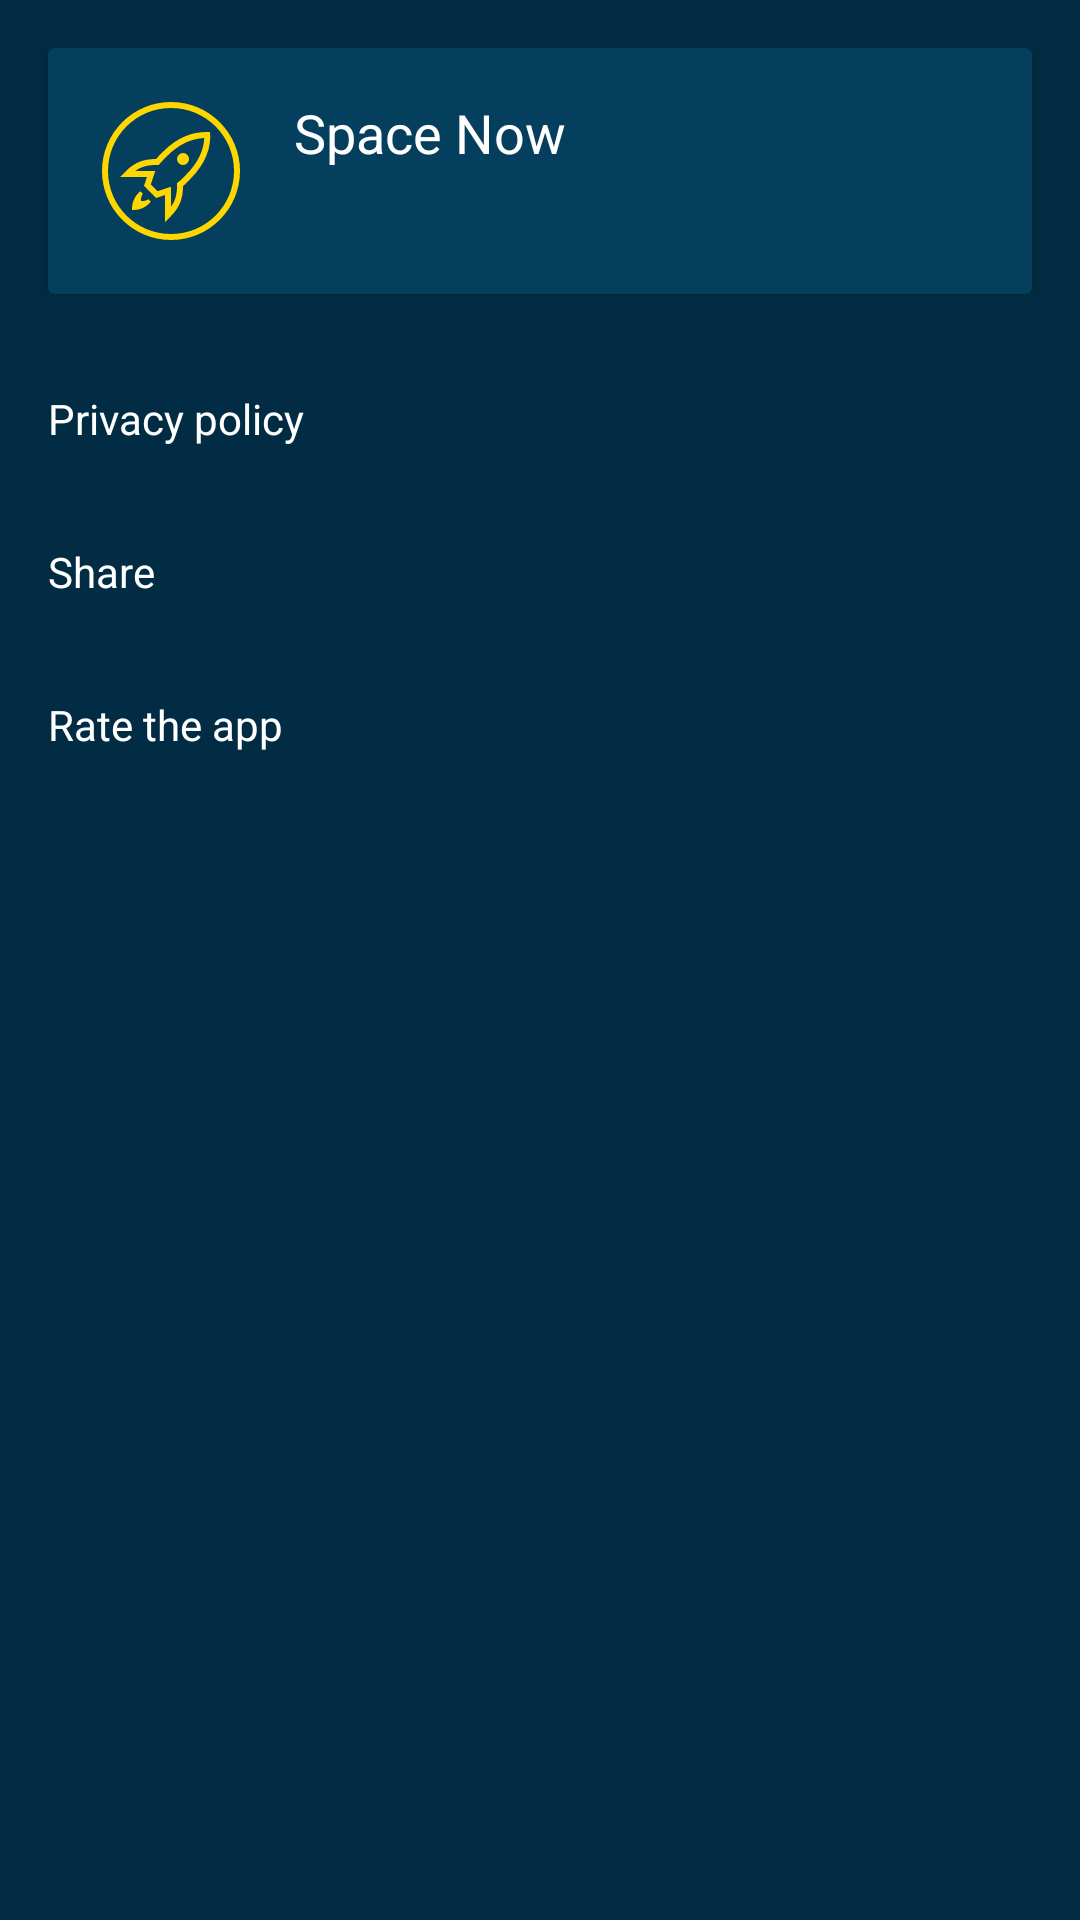

Where to tap for icons on this 1080x1920 app screen, as (x,y):
launchpad: (171,171)
